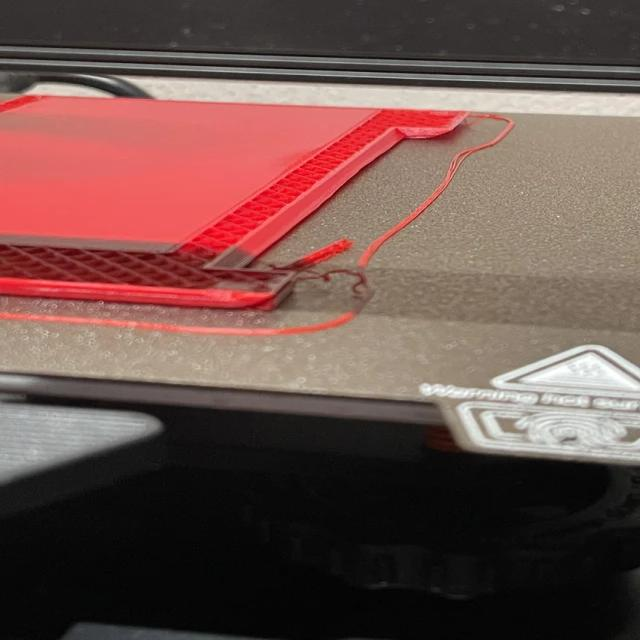warping: (242, 265, 305, 320), (419, 111, 475, 142)
